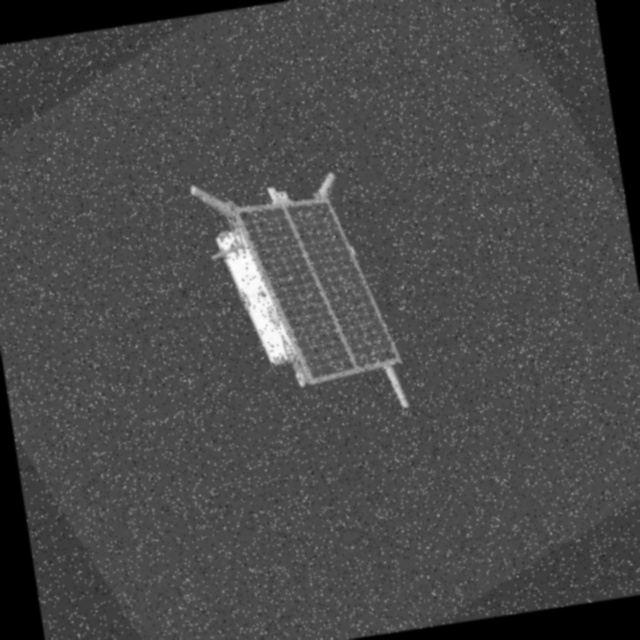satellite: (181, 144, 431, 454)
